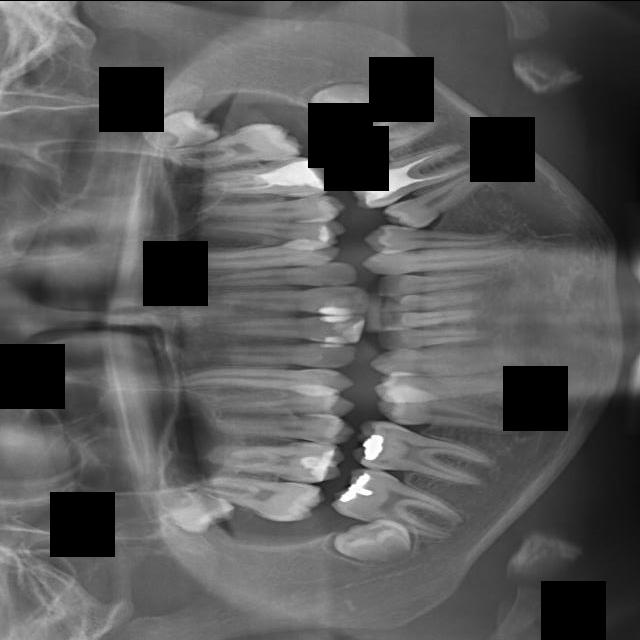3M ESPE Implant: (148, 475, 237, 546)
AGS Medikal Implant: (194, 260, 357, 290)
AMerOss Implant: (165, 241, 339, 270)
Amalgam filling: (205, 219, 346, 245)
Anthogyr Implant: (200, 193, 346, 229)
Bicon Implant: (206, 153, 333, 207)
BioHorizons Implant: (167, 117, 304, 173)
BioLife Implant: (138, 101, 223, 153)
Biomet 3i Implant: (308, 77, 392, 121)
Blue Sky Bio Implant: (311, 90, 455, 175)
Camlog Implant: (339, 137, 485, 215)
Caries: (187, 471, 325, 526)
Composite filling: (381, 155, 518, 239)
Cowellmedi Implant: (363, 218, 516, 251)
Crown: (363, 244, 513, 275)
DENTSPLY Implant: (377, 265, 495, 296)
Dentatus Implant: (381, 287, 487, 313)
Dentis Implant: (380, 307, 486, 329)
Dentium Implant: (377, 328, 495, 349)
Euroteknika Implant: (371, 347, 516, 375)
Filling: (375, 375, 505, 398)
Frontier Implant: (375, 394, 530, 433)
Hiossen Implant: (224, 432, 345, 486)
Implant: (327, 459, 473, 548)
Implant Direct: (350, 415, 495, 488)
Keystone Dental Implant: (330, 518, 416, 567)
MIS Implant: (215, 409, 355, 444)
Mandible: (216, 387, 354, 416)
Maxilla: (172, 367, 353, 391)
Megagen Implant: (199, 337, 356, 369)
Neodent Implant: (200, 310, 365, 343)
Neoss Implant: (194, 285, 370, 314)
